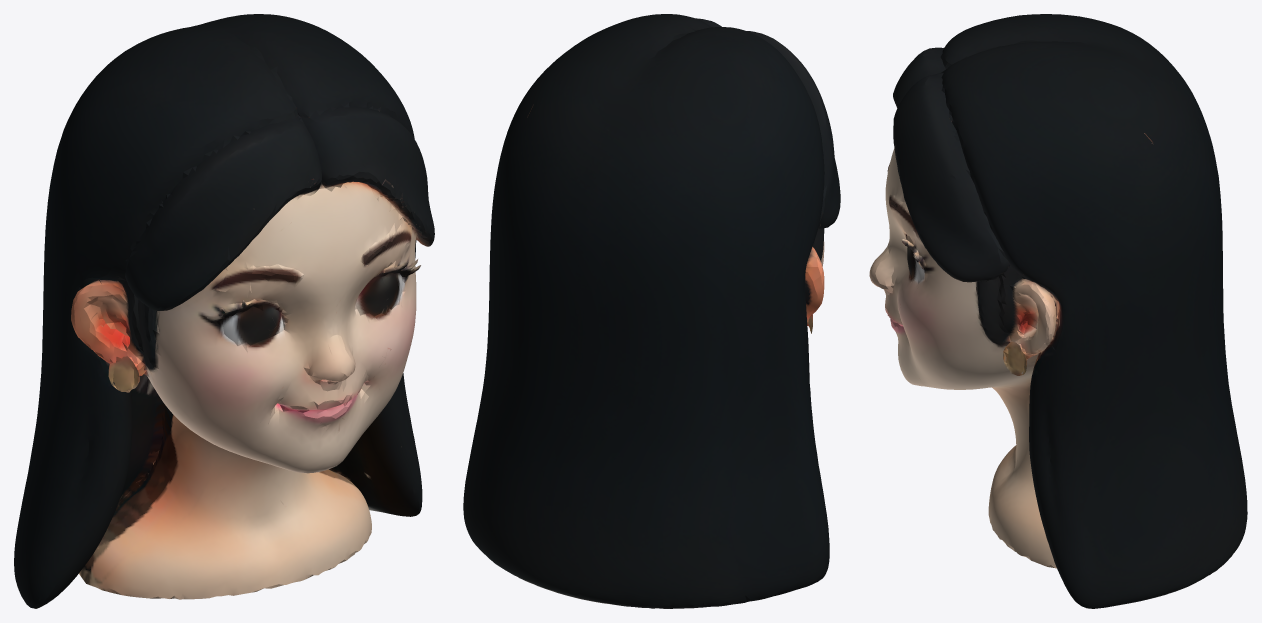
Rendered from stylized_face_generated.obj.
3 views of the same model, side by side, from view 1: azimuth 30°, elevation 25°; view 2: azimuth 150°, elevation 25°; view 3: azimuth 270°, elevation 25° (orthographic). The views are drawn at different scales.
Visible parts, largest first — view 1: bride_try1; view 2: bride_try1; view 3: bride_try1.
Part boxes in pixels (<box>): bride_try1: <box>14,14,434,608</box>; bride_try1: <box>463,14,840,608</box>; bride_try1: <box>869,14,1247,608</box>.
Size of the model in its own units: 1.41 by 1.9 by 1.31.
Materials: 1 (1 with a texture image).
